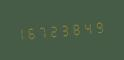eight: (72, 19, 82, 38)
four: (83, 18, 93, 37)
nine: (94, 17, 104, 36)
one: (17, 23, 27, 42)
seven: (39, 22, 49, 41)
six: (28, 22, 38, 42)
three: (61, 20, 71, 39)
two: (50, 21, 60, 40)
